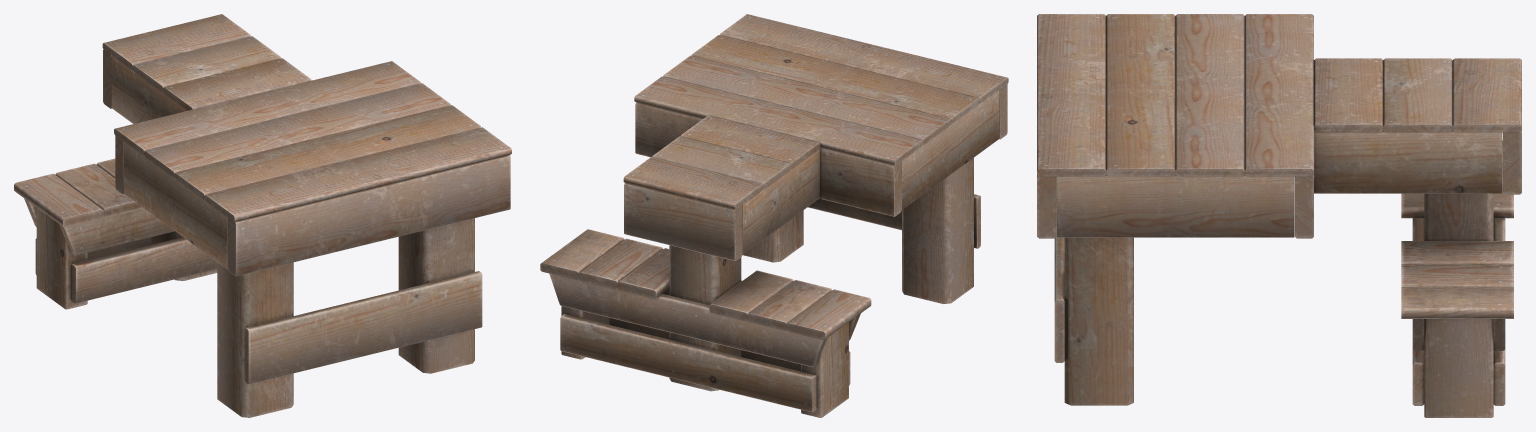
The model's file is shooting_bench_rifle.glb.
The picture shows the model from 3 angles, left to right: view 1: azimuth 30°, elevation 25°; view 2: azimuth 150°, elevation 25°; view 3: azimuth 270°, elevation 25°; orthographic projection. The views are drawn at different scales.
Visible parts, largest first — view 1: Bench_Rifle_Bench_Rifle_0; view 2: Bench_Rifle_Bench_Rifle_0; view 3: Bench_Rifle_Bench_Rifle_0.
Part boxes in pixels (<box>): Bench_Rifle_Bench_Rifle_0: <box>14,14,511,417</box>; Bench_Rifle_Bench_Rifle_0: <box>540,14,1008,417</box>; Bench_Rifle_Bench_Rifle_0: <box>1037,14,1521,417</box>.
Bounding box in the file's own units: 1.18 × 0.8053 × 1.42.
Materials: 1 (1 with a texture image).
